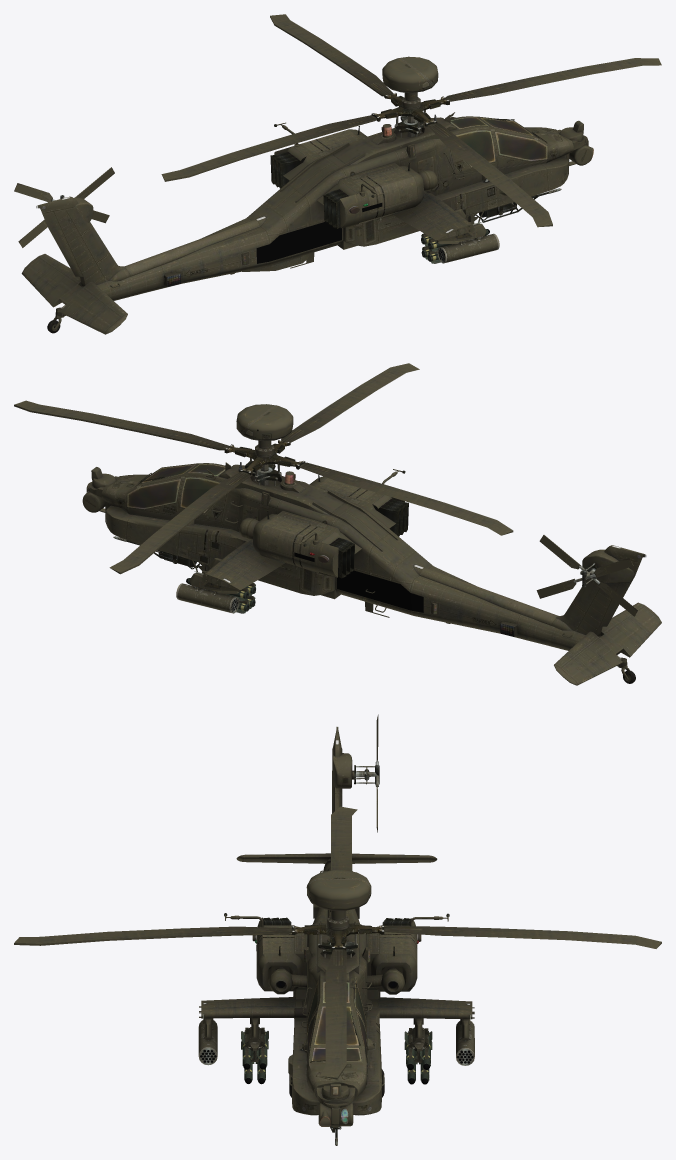
File: old.glb
The picture shows the model from 3 angles, top to bottom: view 1: azimuth 30°, elevation 25°; view 2: azimuth 150°, elevation 25°; view 3: azimuth 270°, elevation 25°; orthographic projection. The views are drawn at different scales.
Parts seen in each view (by area): view 1: Object_8, Object_7, Object_3, Object_2; view 2: Object_8, Object_7, Object_3, Object_2; view 3: Object_8, Object_7, Object_3, Object_6.
Part boxes in pixels (bbox=[...]): Object_8: bbox=[14, 14, 661, 334]; Object_7: bbox=[382, 56, 499, 263]; Object_3: bbox=[349, 117, 547, 213]; Object_2: bbox=[256, 222, 341, 263]; Object_8: bbox=[14, 363, 661, 685]; Object_7: bbox=[176, 404, 293, 613]; Object_3: bbox=[127, 464, 328, 562]; Object_2: bbox=[337, 570, 423, 612]; Object_8: bbox=[14, 714, 661, 1145]; Object_7: bbox=[198, 870, 474, 1073]; Object_3: bbox=[252, 934, 421, 1074]; Object_6: bbox=[241, 1031, 432, 1081].
Bounding box in the file's own units: 2.5 × 0.6831 × 1.96.
7 materials, 7 textured.
